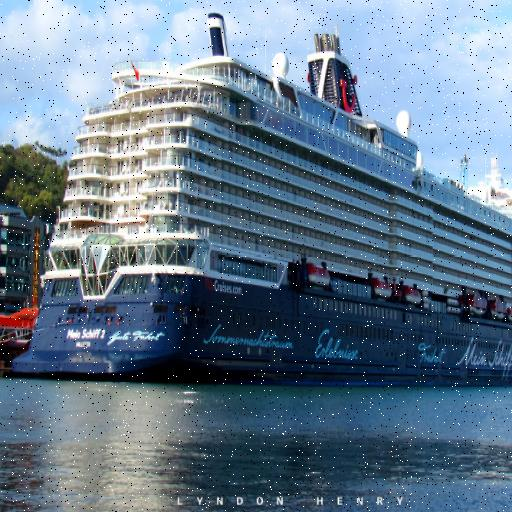cruises: (8, 9, 512, 402)
